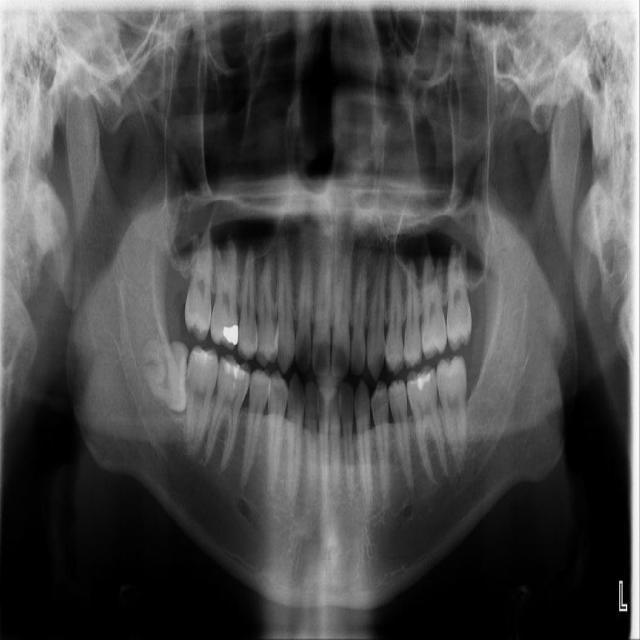52: (218, 354, 251, 400), (210, 301, 239, 350), (188, 346, 219, 390), (407, 365, 437, 408)
73: (613, 599, 620, 603)
BioHorizons Implant: (446, 237, 473, 352)
Blue Sky Bio Implant: (436, 355, 466, 472)
Caries: (184, 227, 215, 343)
Implant: (179, 344, 221, 461)
Keystone Dental Implant: (141, 337, 190, 413)
